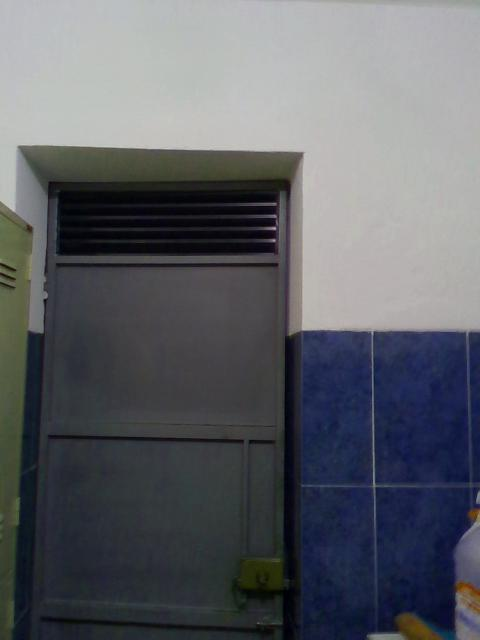closed_door: (15, 178, 294, 638)
